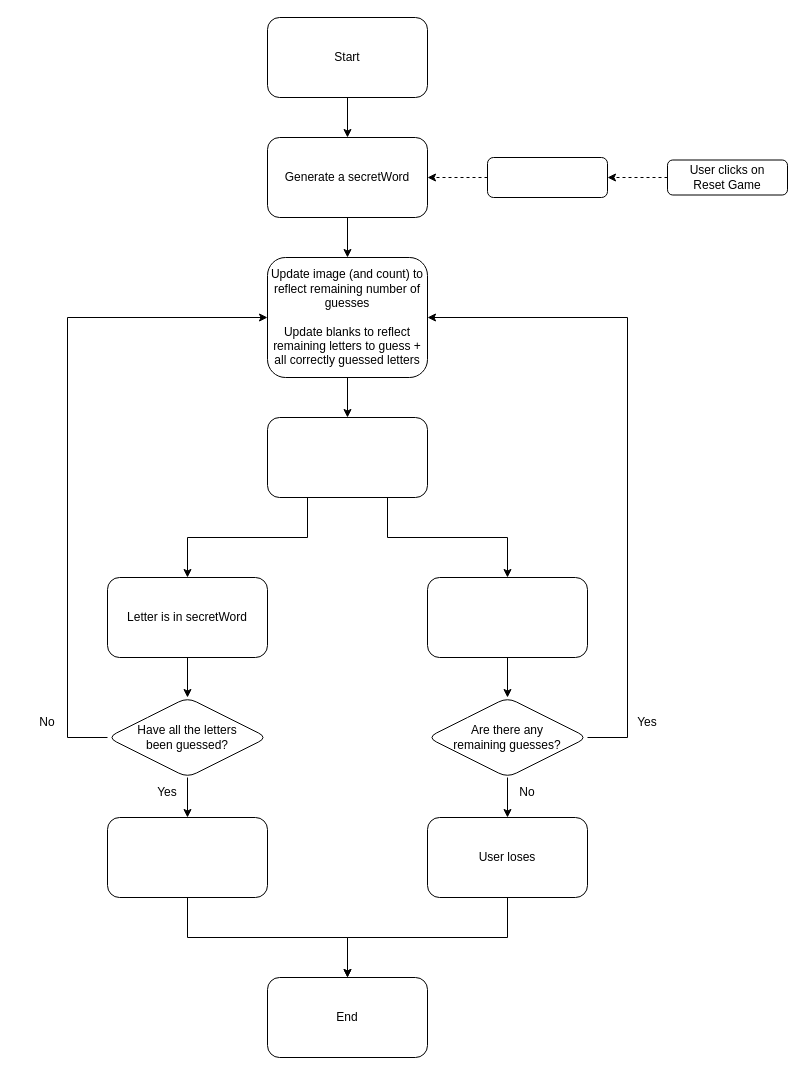
This 805x1075 diagram has some shape labels left out. Here are the shapes that lost their labels. From the top down, the centre of each, then its label:
At point (547, 177): "Reset all values".
At point (347, 457): "User clicks on a letter".
At point (507, 617): "Letter is not in secretWord".
At point (187, 857): "User wins".
